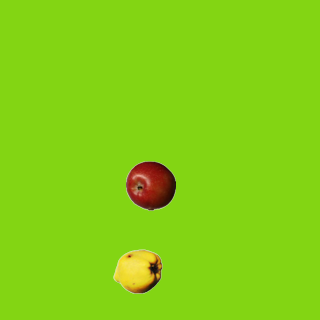Apple Braeburn: (125, 160, 175, 210)
Quince: (112, 246, 162, 296)
